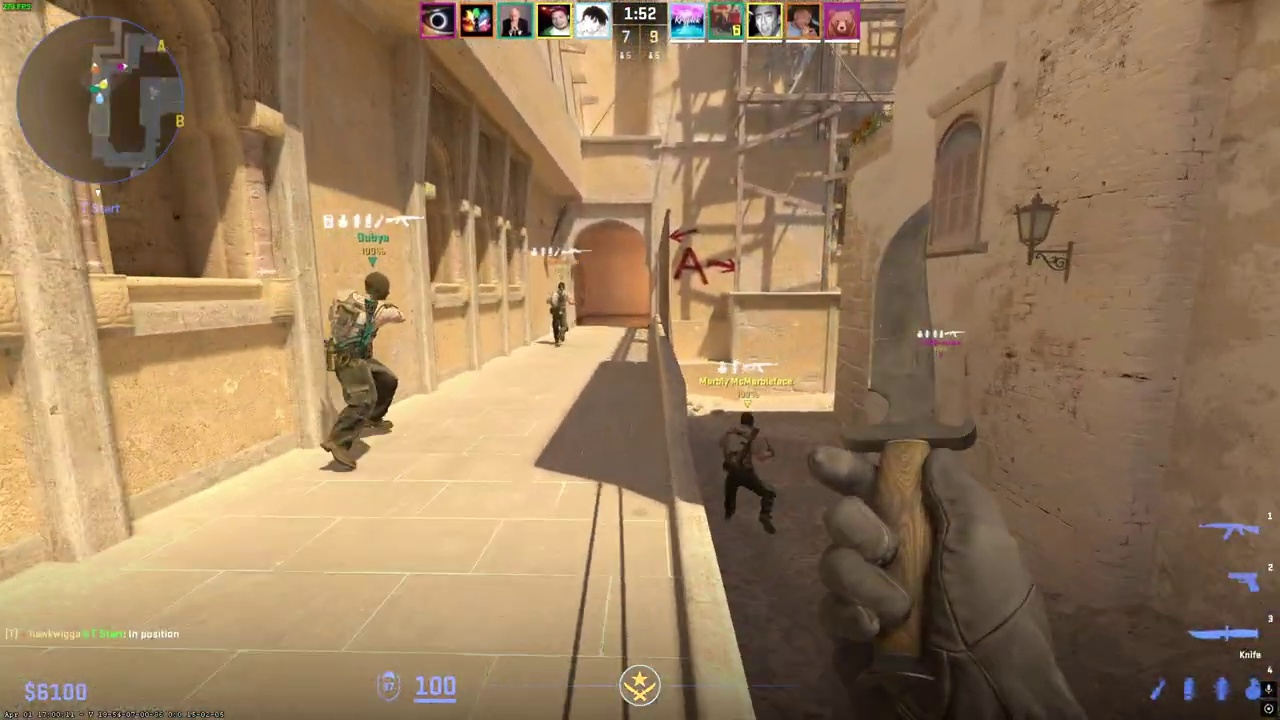Terrorist: (323, 271, 406, 469), (721, 412, 777, 535), (547, 281, 572, 345)
